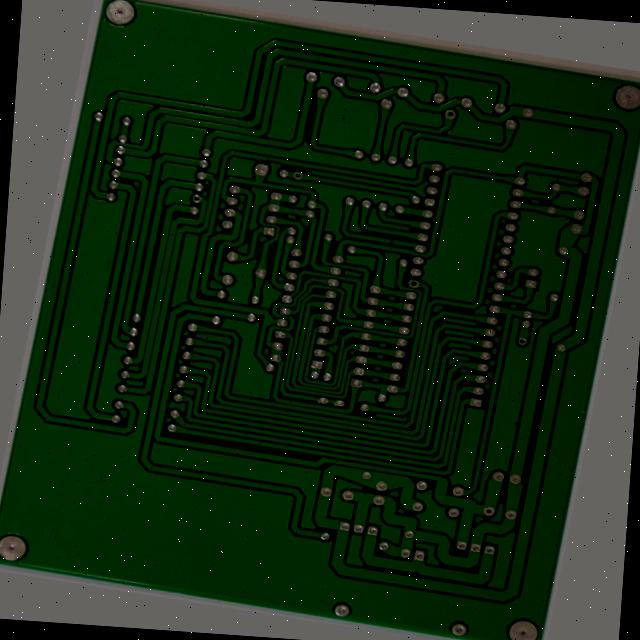missing_hole: (426, 77, 444, 93), (265, 157, 280, 173), (410, 264, 426, 277), (540, 316, 556, 329), (157, 193, 172, 206)
